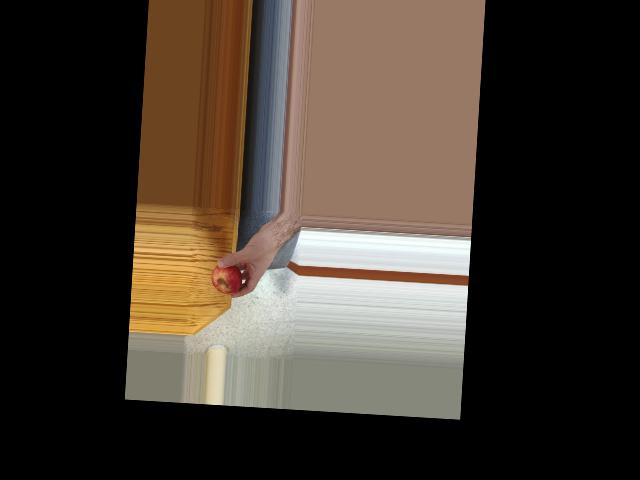apple: (210, 258, 244, 295)
